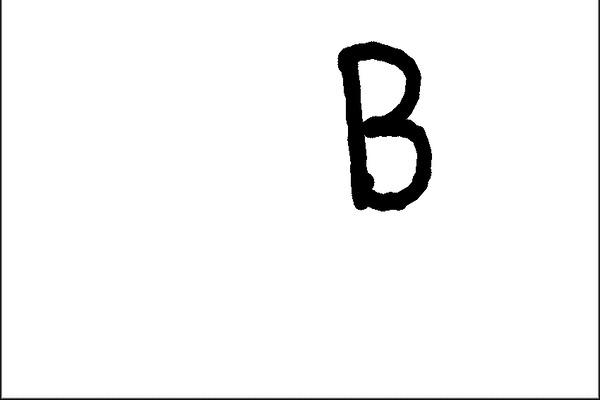B: (327, 33, 439, 218)
